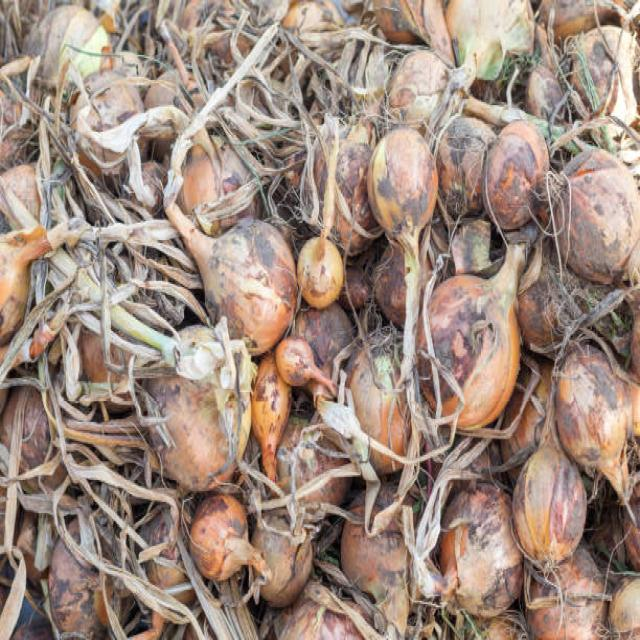mechanical_damage: (389, 92, 438, 430)
rotten: (125, 192, 312, 474)
sprouting: (391, 95, 438, 425)
